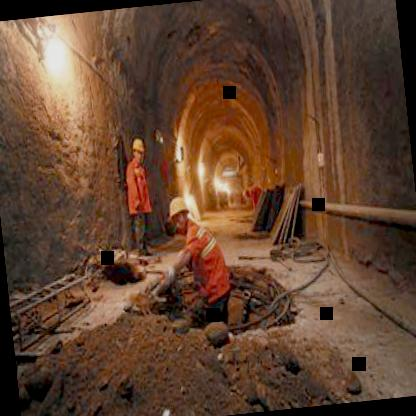helmet: (164, 192, 197, 238), (128, 134, 147, 168)
